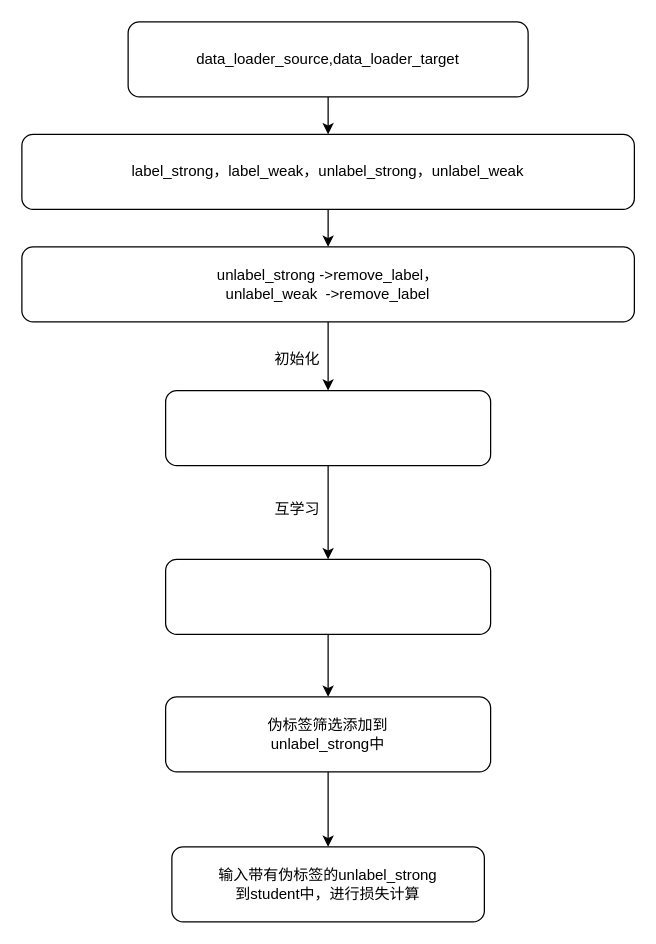
The diagram is 656 pixels wide and 944 high, and some of its shapes have lost their labels. Here are the shapes that lost their labels. From the top down, the centre of each, then its label:
At point (327, 427): "label_strong+label_weak 输入到模型中去student(model)".
At point (327, 596): "unlabel_weak输出到 model_teacher生成ROI伪标签".
